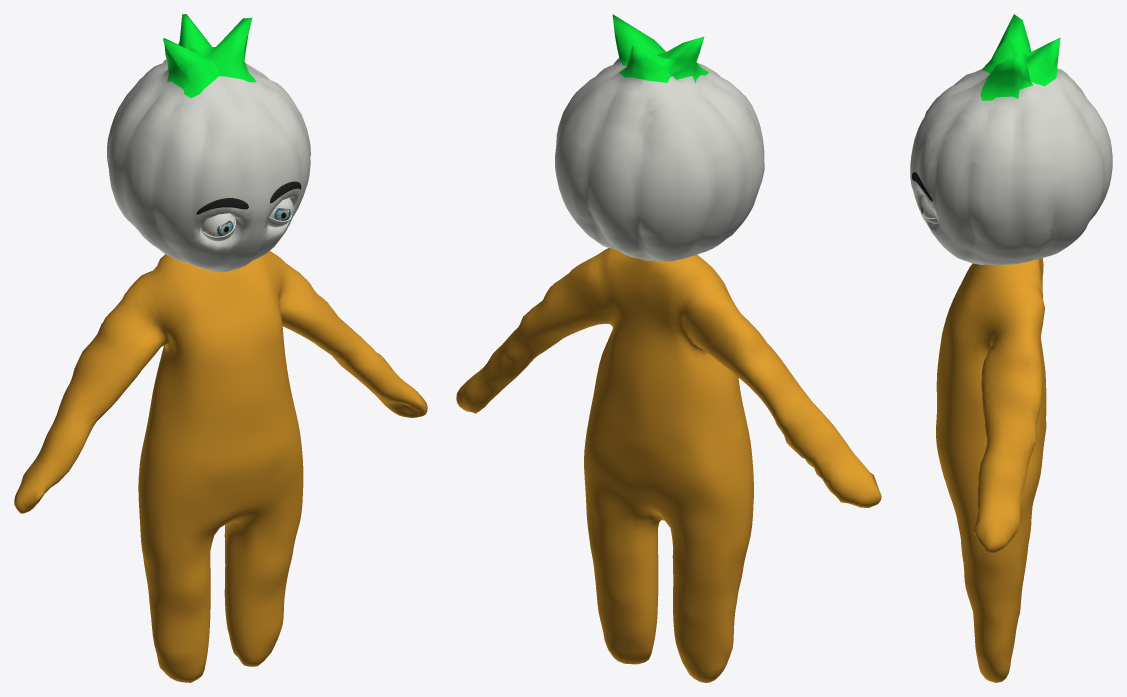
Rendered from Onion TopV2.fbx.
3 views of the same model, side by side, from view 1: azimuth 30°, elevation 25°; view 2: azimuth 150°, elevation 25°; view 3: azimuth 270°, elevation 25° (orthographic). The views are drawn at different scales.
Parts seen in each view (by area): view 1: Body, Head, Eyelid, Plane; view 2: Body, Head; view 3: Head, Body.
Boxes of the visible parts, box(x1,y1,x2,y2) form: Body: box(14, 251, 427, 682); Head: box(107, 14, 310, 272); Eyelid: box(200, 197, 293, 241); Plane: box(196, 181, 301, 214); Body: box(456, 248, 881, 682); Head: box(555, 14, 764, 261); Head: box(910, 14, 1112, 265); Body: box(936, 258, 1046, 682).
Bounding box in the file's own units: 459 × 680 × 198.
5 materials, 1 textured.
